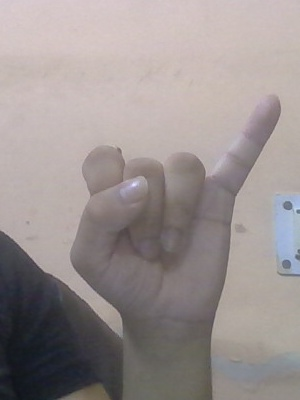I: (1, 79, 288, 367)
